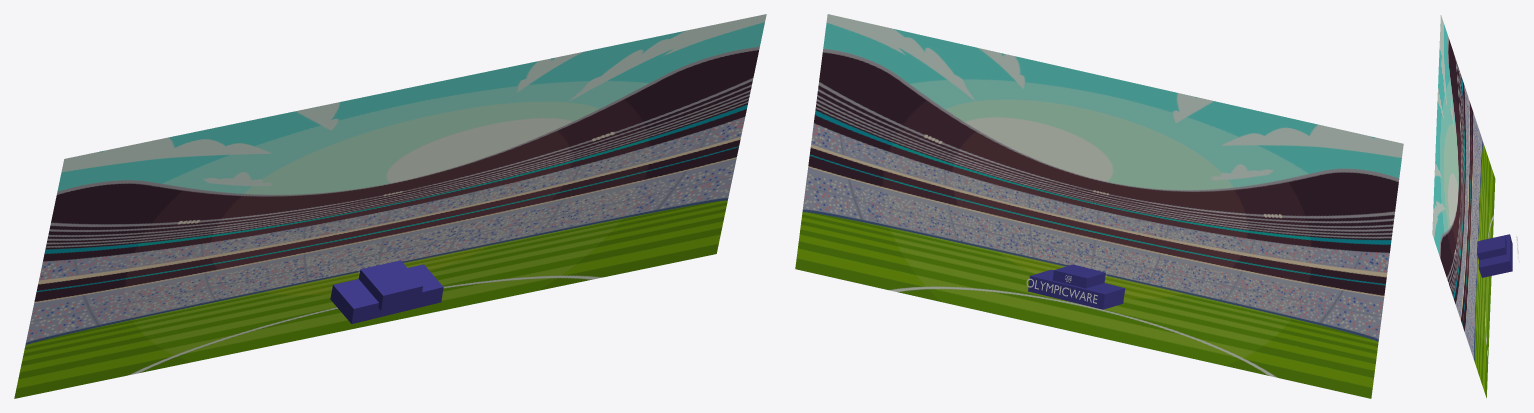
Rendered from Accueil.glb.
The picture shows the model from 3 angles, left to right: view 1: azimuth 30°, elevation 25°; view 2: azimuth 150°, elevation 25°; view 3: azimuth 270°, elevation 25°; orthographic projection. The views are drawn at different scales.
Parts seen in each view (by area): view 1: Plan, Cube, Cube.001; view 2: Plan, Cube, Cube.001; view 3: Plan, Cube, Cube.001.
Part boxes in pixels (box(x1,y1,x2,y2)): Plan: box(14, 14, 766, 398); Cube: box(330, 264, 443, 323); Cube.001: box(358, 260, 422, 310); Plan: box(795, 14, 1403, 398); Cube: box(1028, 269, 1125, 309); Cube.001: box(1052, 264, 1105, 288); Plan: box(1432, 15, 1495, 398); Cube: box(1478, 234, 1512, 277); Cube.001: box(1477, 235, 1506, 260).
Size of the model in its own units: 27.33 by 10.83 by 4.8.
Materials: 2 (1 with a texture image).
